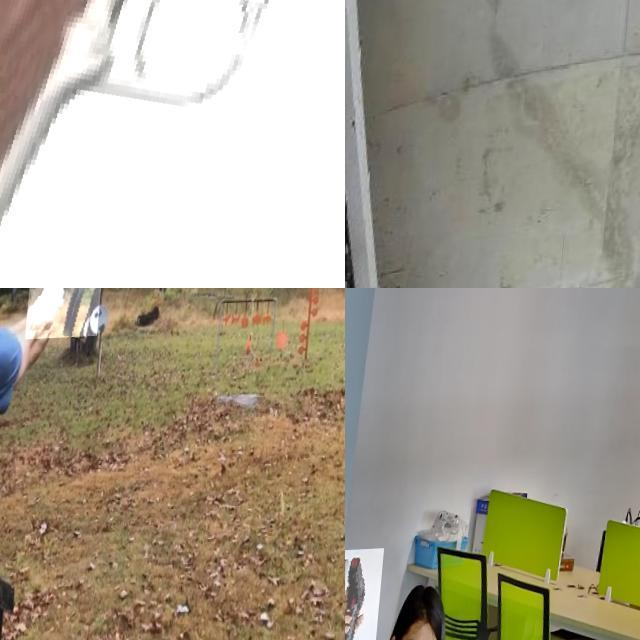gun-knife-thesis - v11 Yolov5 augmented: (0, 0, 345, 288), (30, 288, 108, 341), (345, 550, 390, 640)
